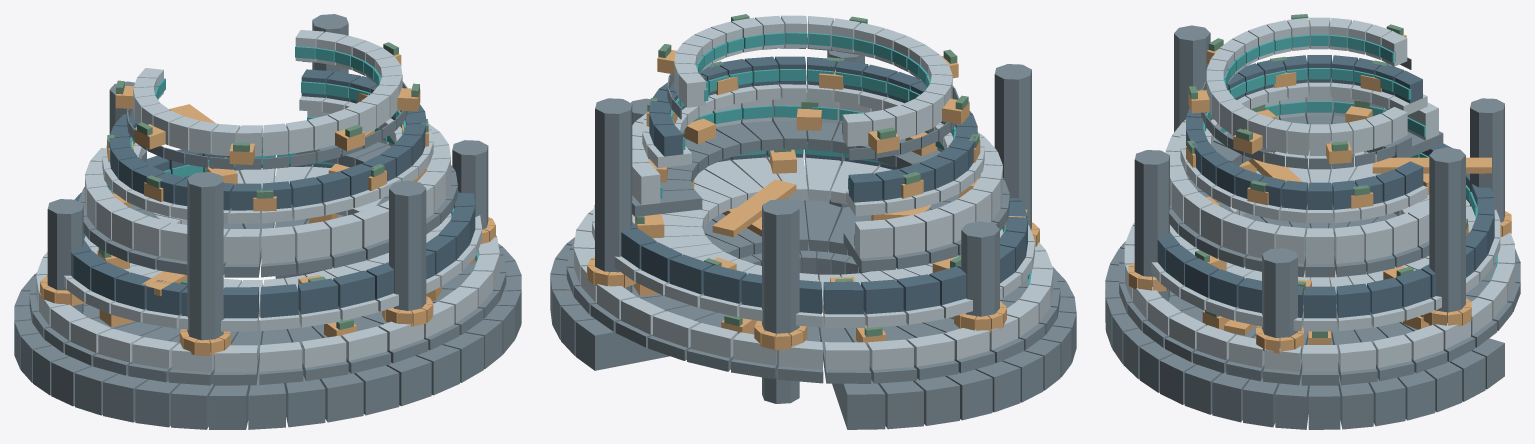
Rendered from a19_a_civic_caldera.obj.
3 renders of one model, left to right at view 1: azimuth 30°, elevation 25°; view 2: azimuth 150°, elevation 25°; view 3: azimuth 270°, elevation 25°, orthographic. The views are drawn at different scales.
Size of the model in its own units: 226 by 118 by 181.
